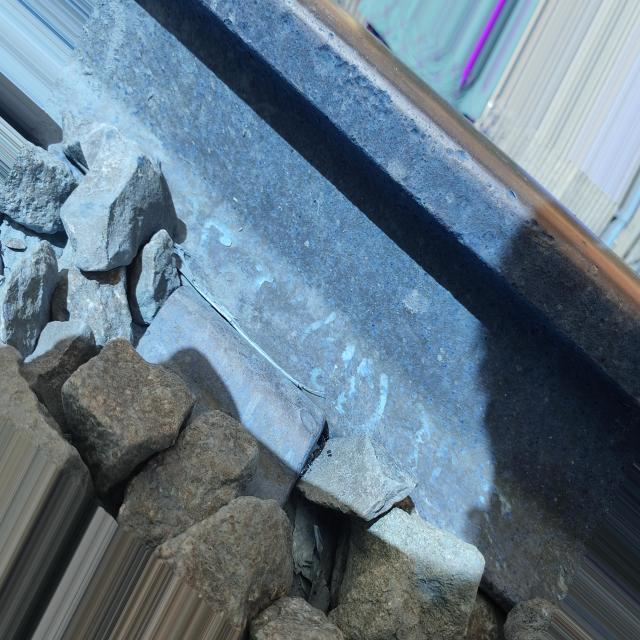Missing Fastener: (111, 264, 338, 534)
